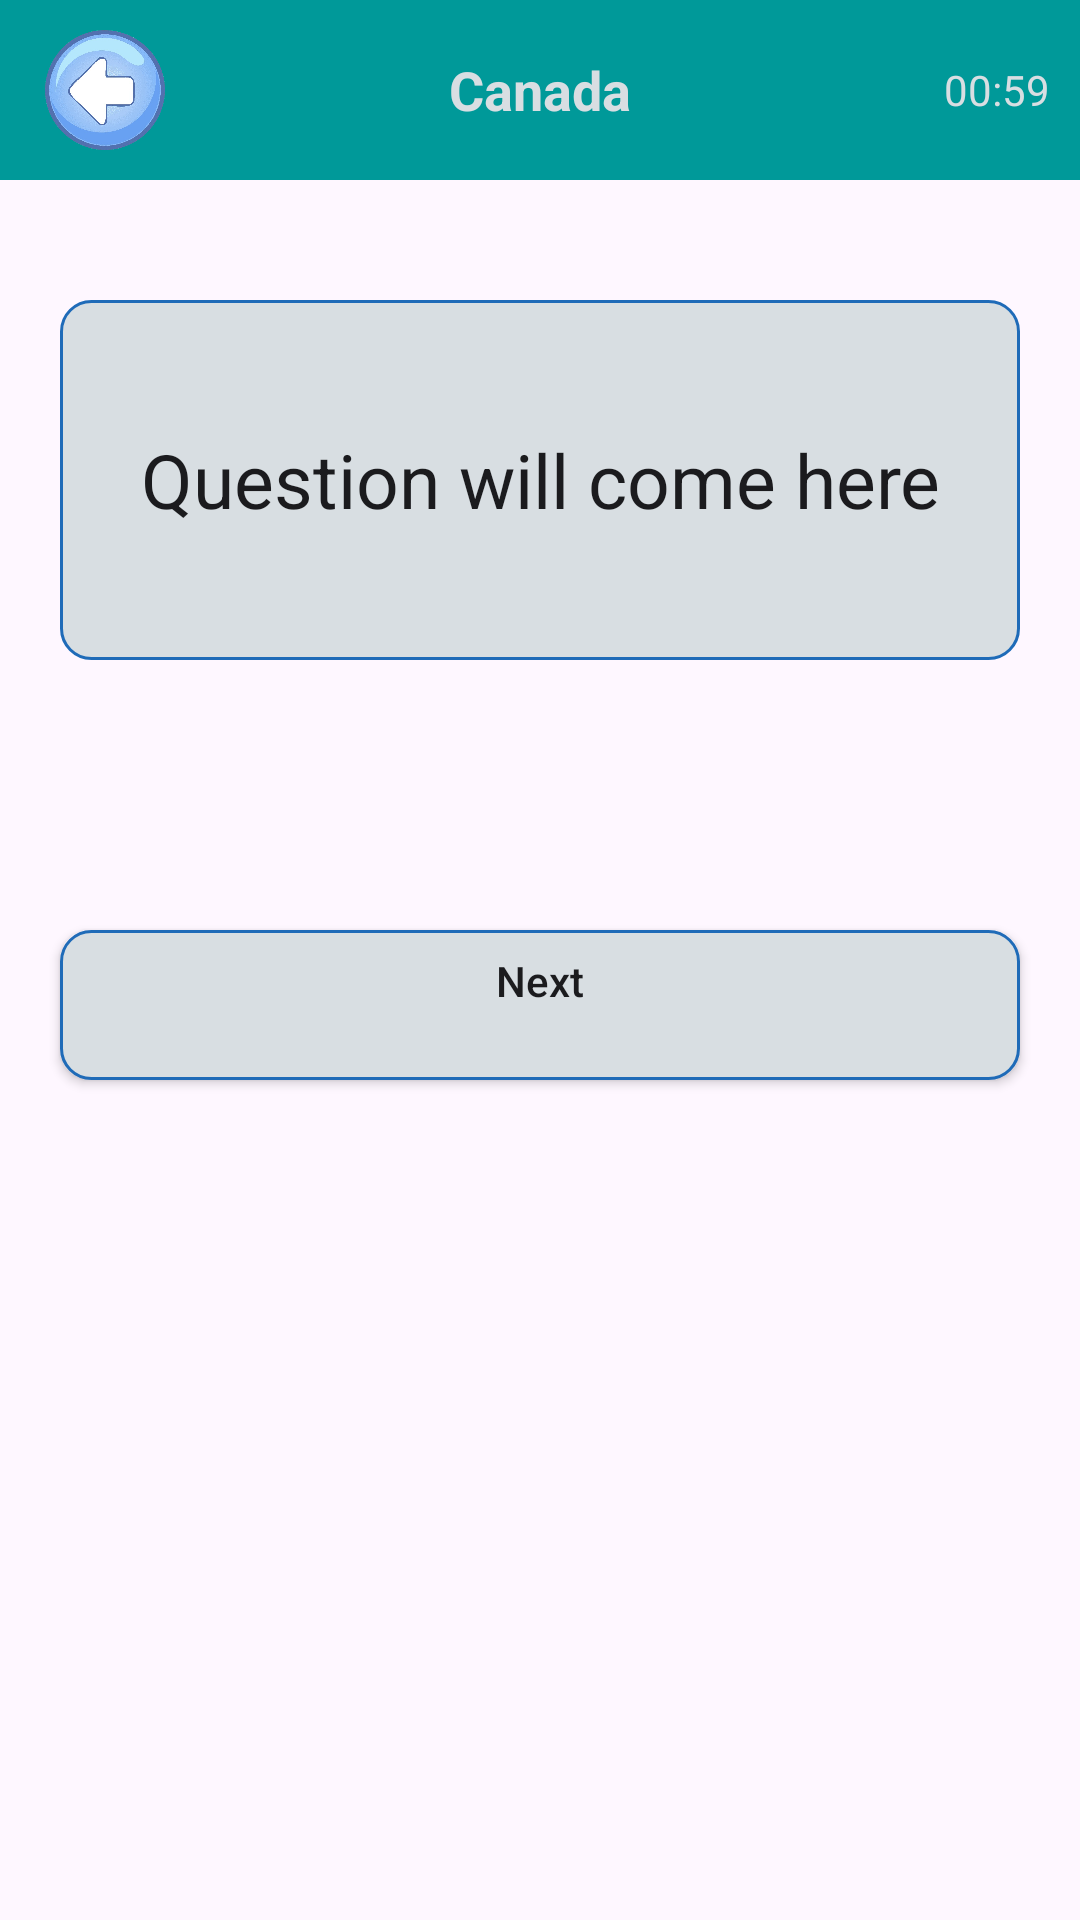

Locate icon controls on the screen. Image size 1080w x 1920h, boxes as (x1, y1, x2, y2).
back: (45, 30, 165, 150)
